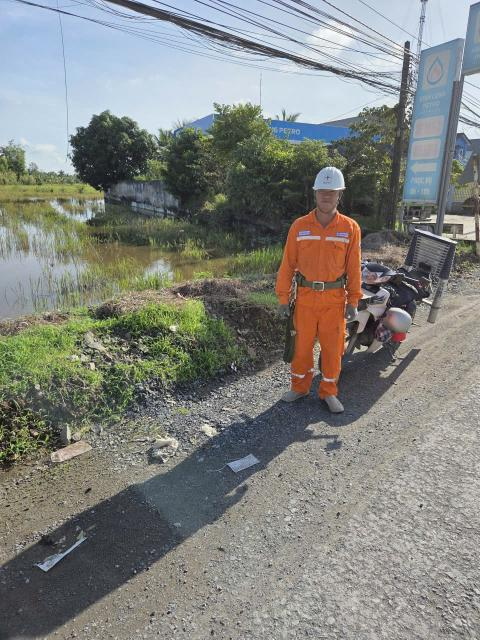gloves: (344, 303, 363, 325), (278, 305, 292, 319)
harness: (290, 263, 354, 292)
helmet: (308, 160, 347, 197)
shoes: (269, 383, 313, 403), (323, 389, 347, 416)
